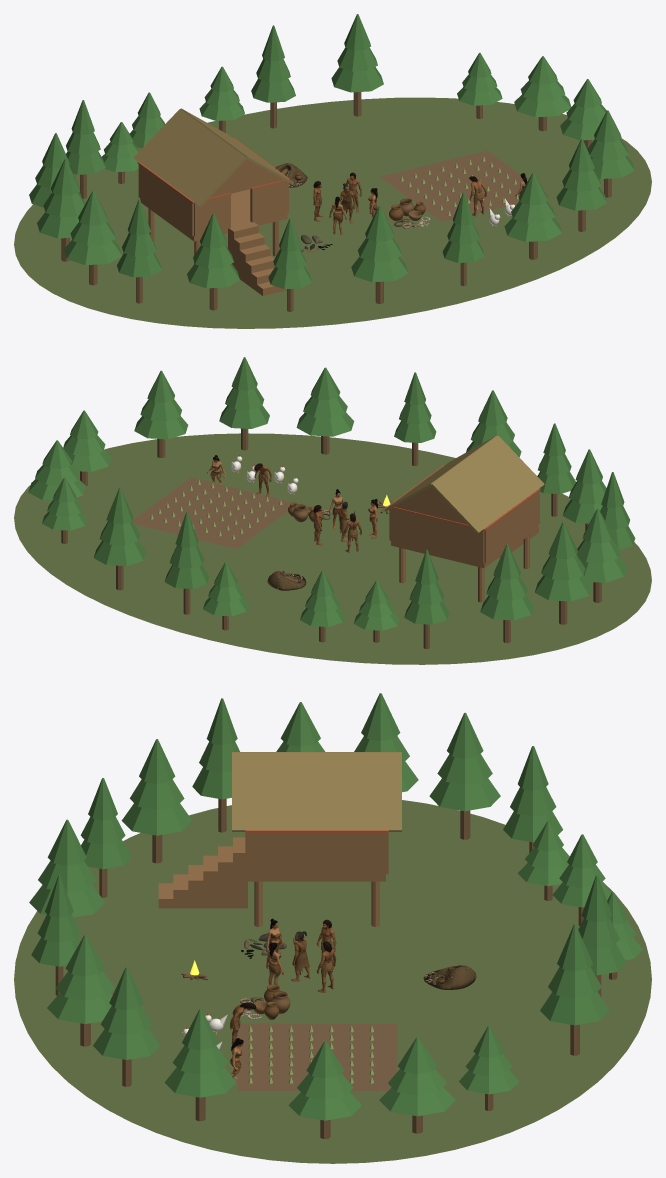
Rendered from neolitikum.glb.
3 renders of one model, top to bottom at view 1: azimuth 30°, elevation 25°; view 2: azimuth 150°, elevation 25°; view 3: azimuth 270°, elevation 25°, orthographic. The views are drawn at different scales.
Parts seen in each view (by area): view 1: GEO-tanah_kampung, rumah_atap_kiri, ladang_neo_tanah, pohon_15, pohon_11, pohon_4, pohon_17, pohon_13, pohon_10, pohon_18, pohon_2, pohon_12 (+23 smaller); view 2: GEO-tanah_kampung, ladang_neo_tanah, rumah_atap_kiri, rumah_dinding_belakang, pohon_10, pohon_4, pohon_9, pohon_17, pohon_11, pohon_19, pohon_18, pohon_5 (+19 smaller); view 3: GEO-tanah_kampung, rumah_atap_kanan, ladang_neo_tanah, rumah_dinding_kanan, pohon_4, pohon_9, pohon_13, pohon_17, pohon_19, pohon_18, pohon_2, pohon_1 (+20 smaller).
Part boxes in pixels (x1,y1,x2,y2): GEO-tanah_kampung: (14,97,651,328); rumah_atap_kiri: (133,109,246,206); ladang_neo_tanah: (380,150,548,221); pohon_15: (351,205,408,303); pohon_11: (64,191,122,285); pohon_4: (331,14,383,116); pohon_17: (504,172,561,259); pohon_13: (187,213,239,310); pohon_10: (37,159,85,261); pohon_18: (556,138,607,231); pohon_2: (514,56,571,131); pohon_12: (117,199,161,303); GEO-tanah_kampung: (14,433,651,664); ladang_neo_tanah: (132,477,297,548); rumah_atap_kiri: (431,435,544,533); rumah_dinding_belakang: (390,508,484,563); pohon_10: (535,522,591,624); pohon_4: (94,488,146,590); pohon_9: (480,544,533,642); pohon_17: (296,367,354,454); pohon_11: (577,508,626,602); pohon_19: (134,370,188,457); pohon_18: (219,357,269,450); pohon_5: (164,511,209,614); GEO-tanah_kampung: (14,800,651,1163); rumah_atap_kanan: (232,752,401,831); ladang_neo_tanah: (237,1023,396,1090); rumah_dinding_kanan: (248,833,385,875); pohon_4: (540,924,609,1055); pohon_9: (429,712,500,839); pohon_13: (121,739,192,863); pohon_17: (47,934,114,1046); pohon_19: (164,1009,235,1121); pohon_18: (93,967,160,1086); pohon_2: (379,1037,455,1133); pohon_1: (288,1041,361,1139).
Size of the model in its own units: 16.4 by 3.18 by 12.
19 materials, 6 textured.
